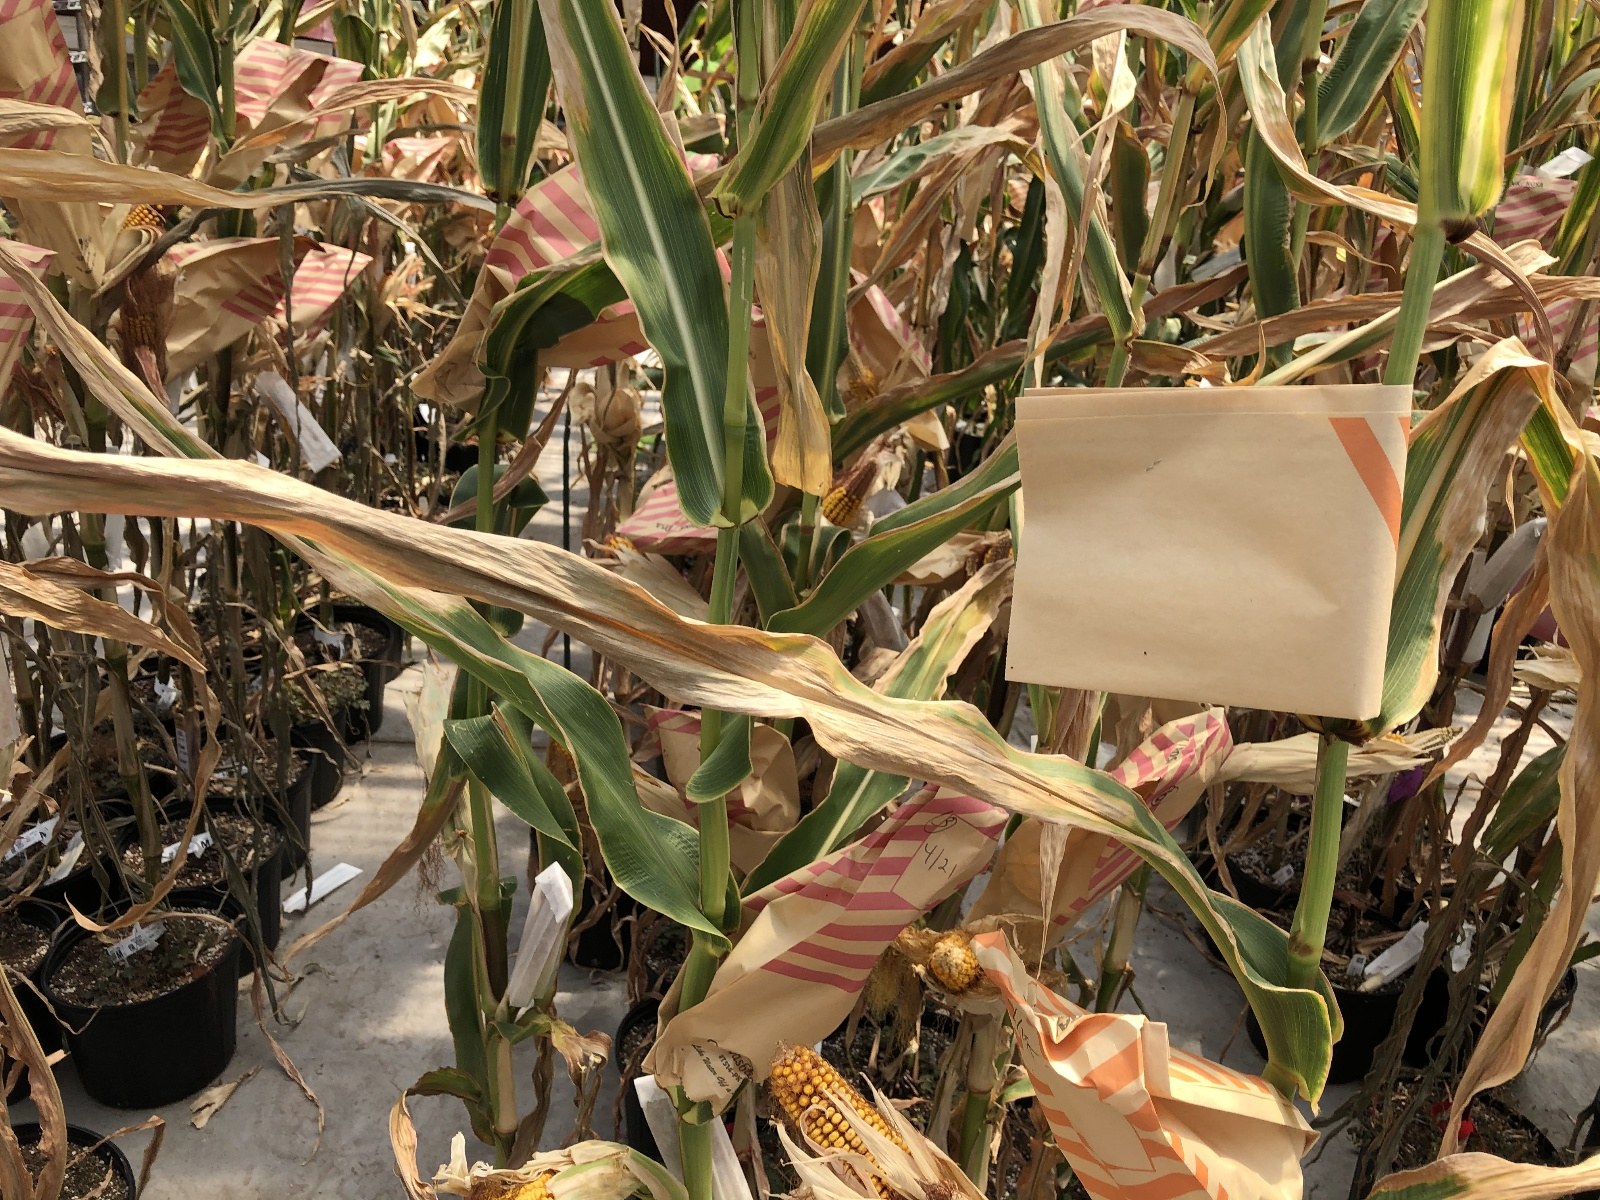ear: (761, 1037, 968, 1192), (1235, 721, 1464, 788), (598, 524, 714, 630), (477, 1158, 627, 1197), (824, 456, 887, 528), (921, 929, 985, 998), (842, 337, 882, 408), (125, 203, 173, 229)
